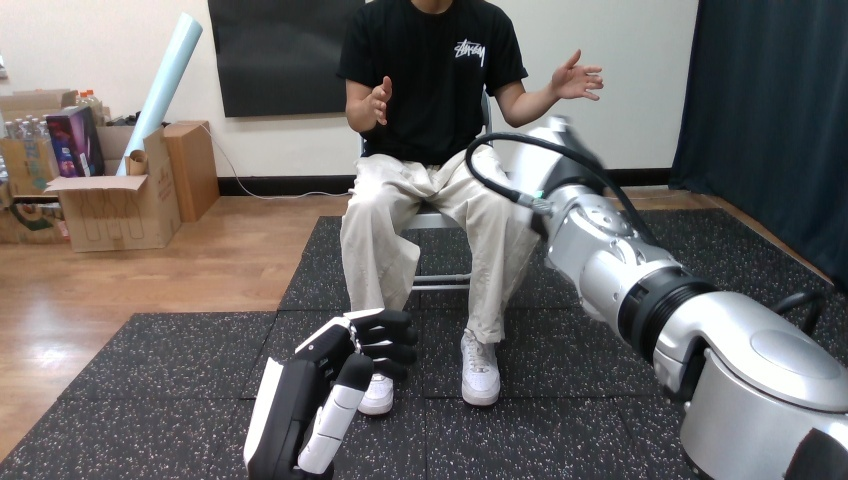left robot hand: (466, 117, 847, 478), (244, 308, 416, 478), (550, 49, 602, 100)
